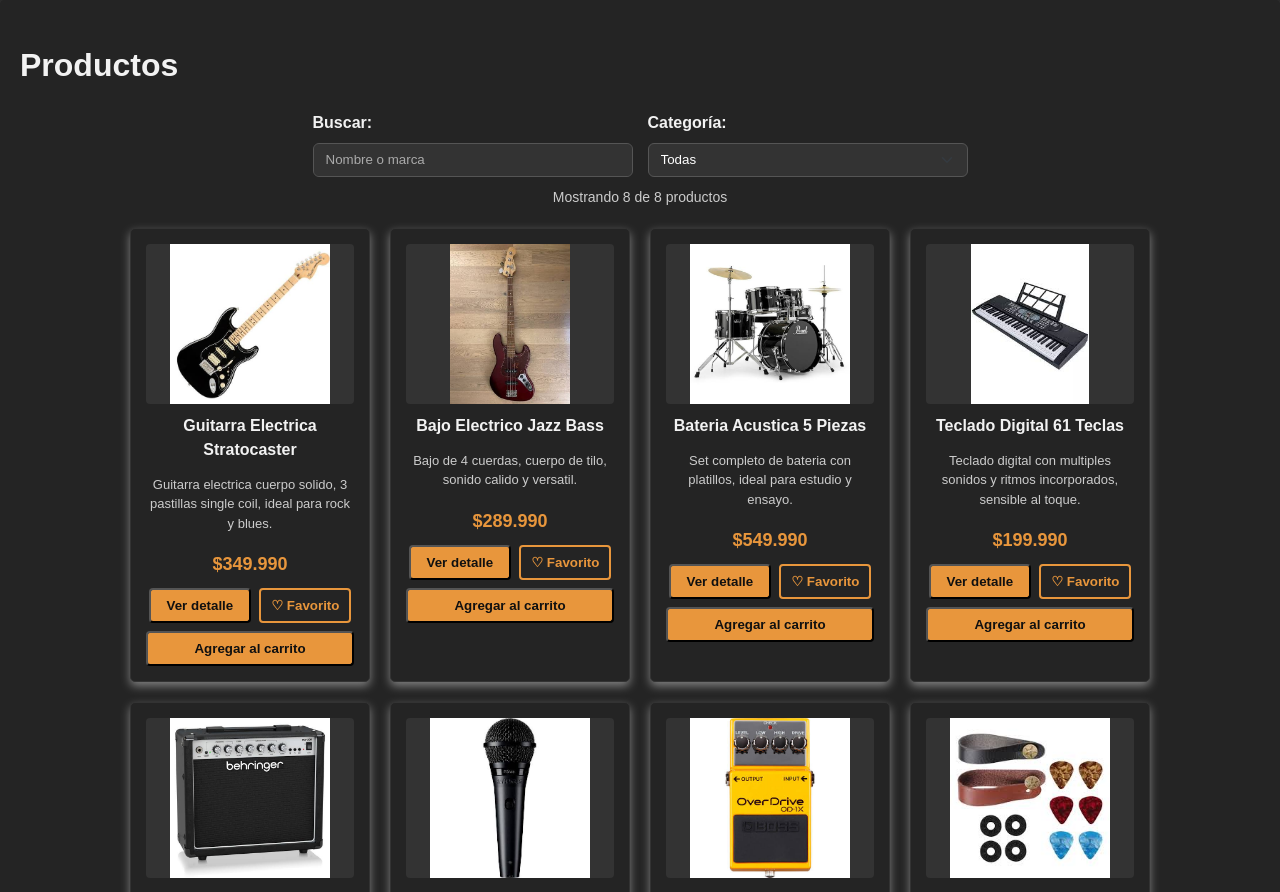
Página Productos › PU-036: si la búsqueda no encuentra nada muestra un aviso
Type "violin" into the search field labelled "Buscar:" at (472, 160), box [312, 143, 632, 177]
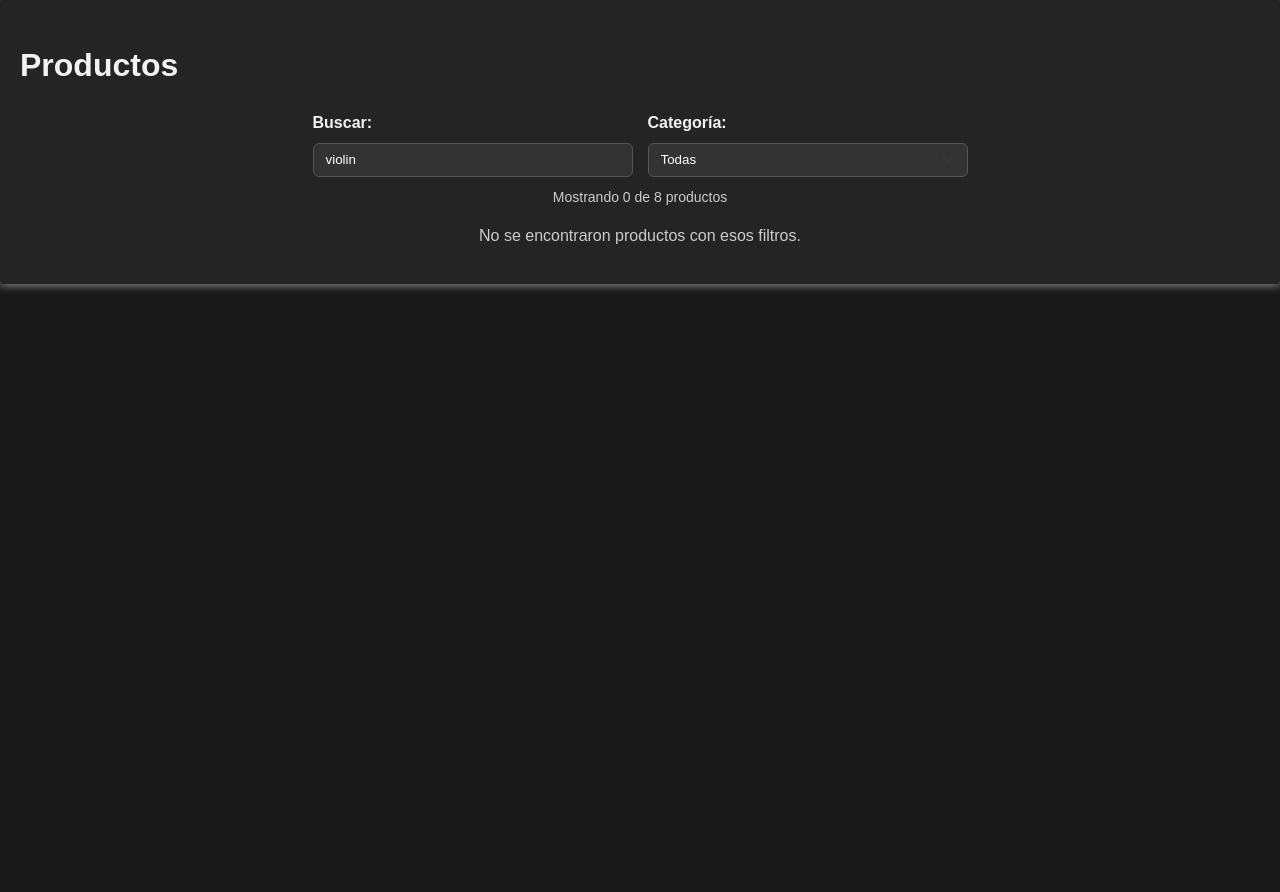
expect the text "No se encontraron productos con esos filtros." is shown: met, box [479, 227, 801, 244]
